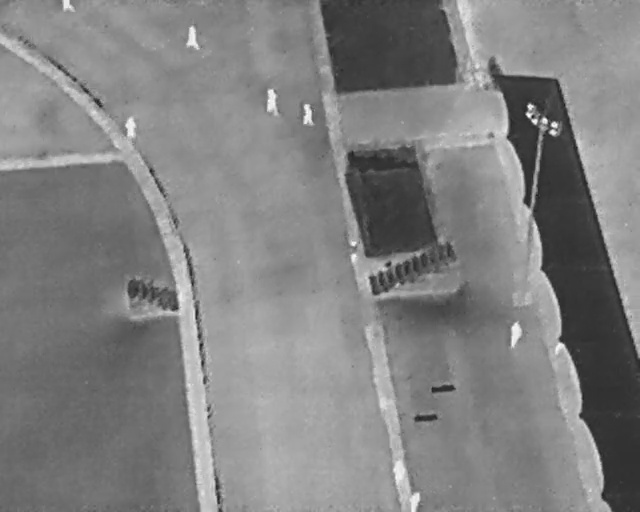Person: (264, 86, 281, 118), (508, 319, 525, 350), (185, 24, 200, 50), (301, 102, 315, 128), (393, 459, 406, 485), (124, 116, 137, 138), (412, 487, 421, 511), (59, 0, 76, 11)
